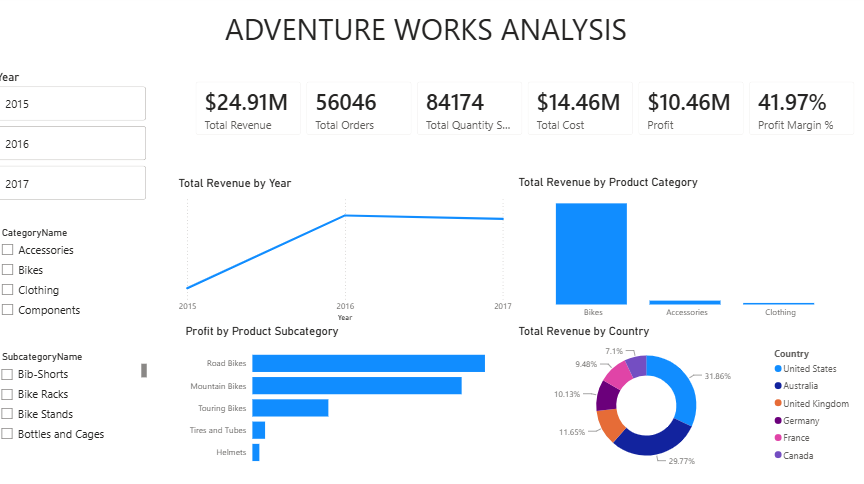

Layout of this report page (visuals, bound fields, positions):
{"tool":"powerbi","page":{"name":"Overview","canvas":[1280,720],"ordinal":0},"visuals":[{"type":"cardVisual","fields":{"Data":["AdventureWorks_Customers.Total Revenue","AdventureWorks_Customers.Total Orders","AdventureWorks_Customers.Total Quantity Sold","AdventureWorks_Customers.Total Cost","AdventureWorks_Customers.Profit","AdventureWorks_Customers.Profit Margin %"]},"box":[279.5,109.8,1001,112.7],"z":0},{"type":"lineChart","fields":{"Y":["AdventureWorks_Customers.Total Revenue"],"Category":["Dim_Date.Year"]},"box":[266.3,264.9,497.6,218],"z":1000},{"type":"clusteredColumnChart","title":"Total Revenue by Product Category","fields":{"Category":["AdventureWorks_Products.CategoryName"],"Y":["AdventureWorks_Customers.Total Revenue"]},"box":[763.9,263.4,503.4,219.5],"z":2000},{"type":"barChart","title":"Profit by Product Subcategory","fields":{"Y":["AdventureWorks_Customers.Profit"],"Category":["AdventureWorks_Products.SubcategoryName"]},"box":[276.6,481.5,497.6,219.5],"z":3000},{"type":"donutChart","fields":{"Category":["AdventureWorks_Territories.Country"],"Y":["AdventureWorks_Customers.Total Revenue"]},"box":[763.9,481.5,503.4,219.5],"z":4000},{"type":"advancedSlicerVisual","fields":{"Values":["Dim_Date.Year"]},"box":[0,109.8,229.8,197.6],"z":4001},{"type":"slicer","fields":{"Values":["AdventureWorks_Products.CategoryName"]},"box":[0,335.1,229.8,163.9],"z":4002},{"type":"slicer","fields":{"Values":["AdventureWorks_Products.SubcategoryName"]},"box":[0,516.6,229.8,149.3],"z":4003},{"type":"textbox","box":[0,14.6,1267.3,95.1],"z":4004}]}

Visuals, with their boxes in screenshot pixels (x1, y1, x2, y2), scaled from the page's 1280x720 canvas onto the 864x484 screenshot:
cardVisual - AdventureWorks_Customers.Total Revenue x AdventureWorks_Customers.Total Orders: 189,74,863,150
lineChart - AdventureWorks_Customers.Total Revenue x Dim_Date.Year: 180,178,516,325
"Total Revenue by Product Category" clusteredColumnChart: 516,177,855,325
"Profit by Product Subcategory" barChart: 187,324,523,471
donutChart - AdventureWorks_Territories.Country x AdventureWorks_Customers.Total Revenue: 516,324,855,471
advancedSlicerVisual - Dim_Date.Year: 0,74,155,207
slicer - AdventureWorks_Products.CategoryName: 0,225,155,335
slicer - AdventureWorks_Products.SubcategoryName: 0,347,155,448
textbox: 0,10,855,74
